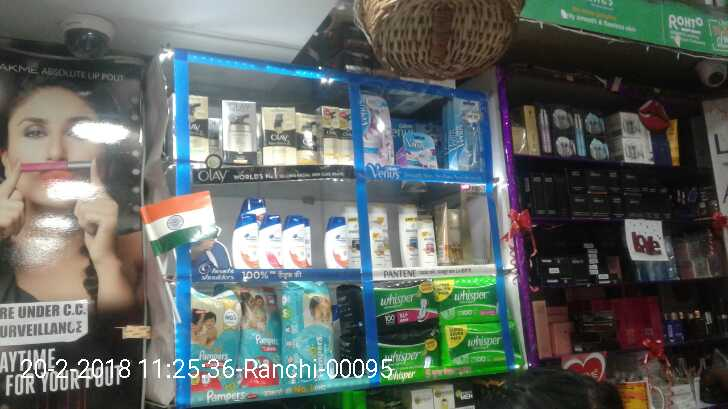venus: (445, 100, 482, 167), (365, 96, 391, 166), (398, 134, 439, 168)
